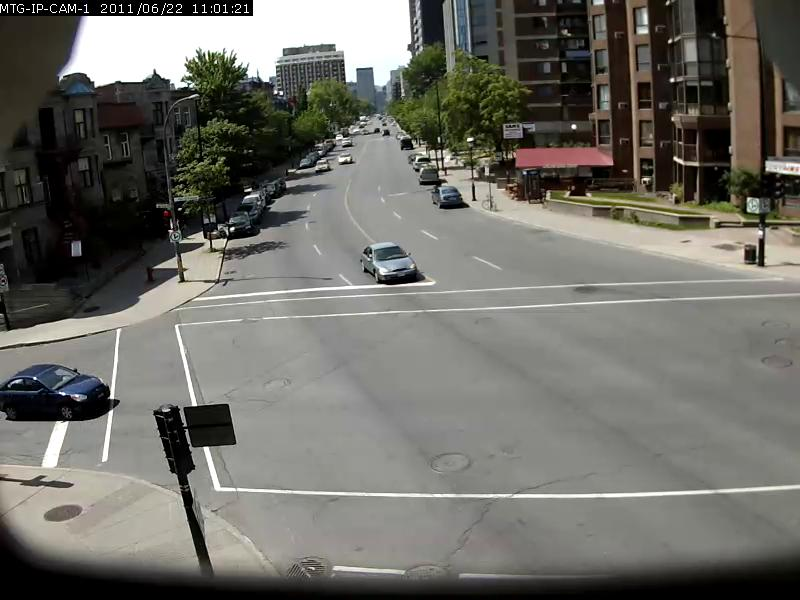Car: (359, 241, 419, 285), (314, 158, 330, 173), (338, 153, 352, 165)
